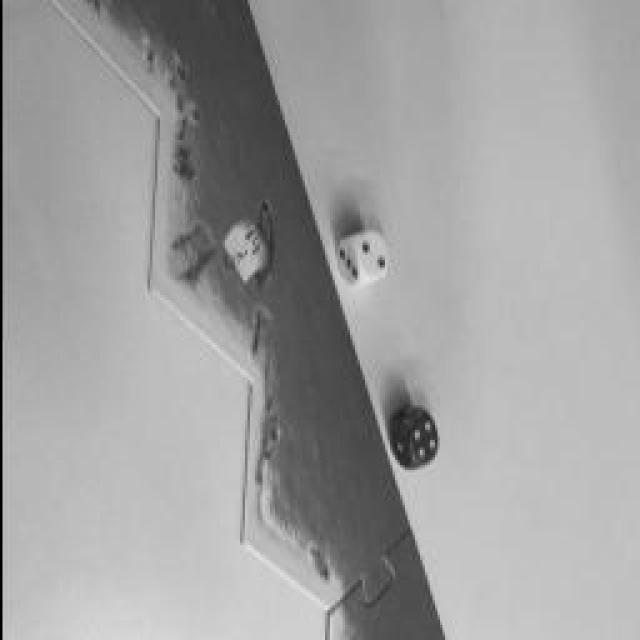dice_2: (354, 229, 386, 281)
dice_4: (404, 412, 436, 468)
